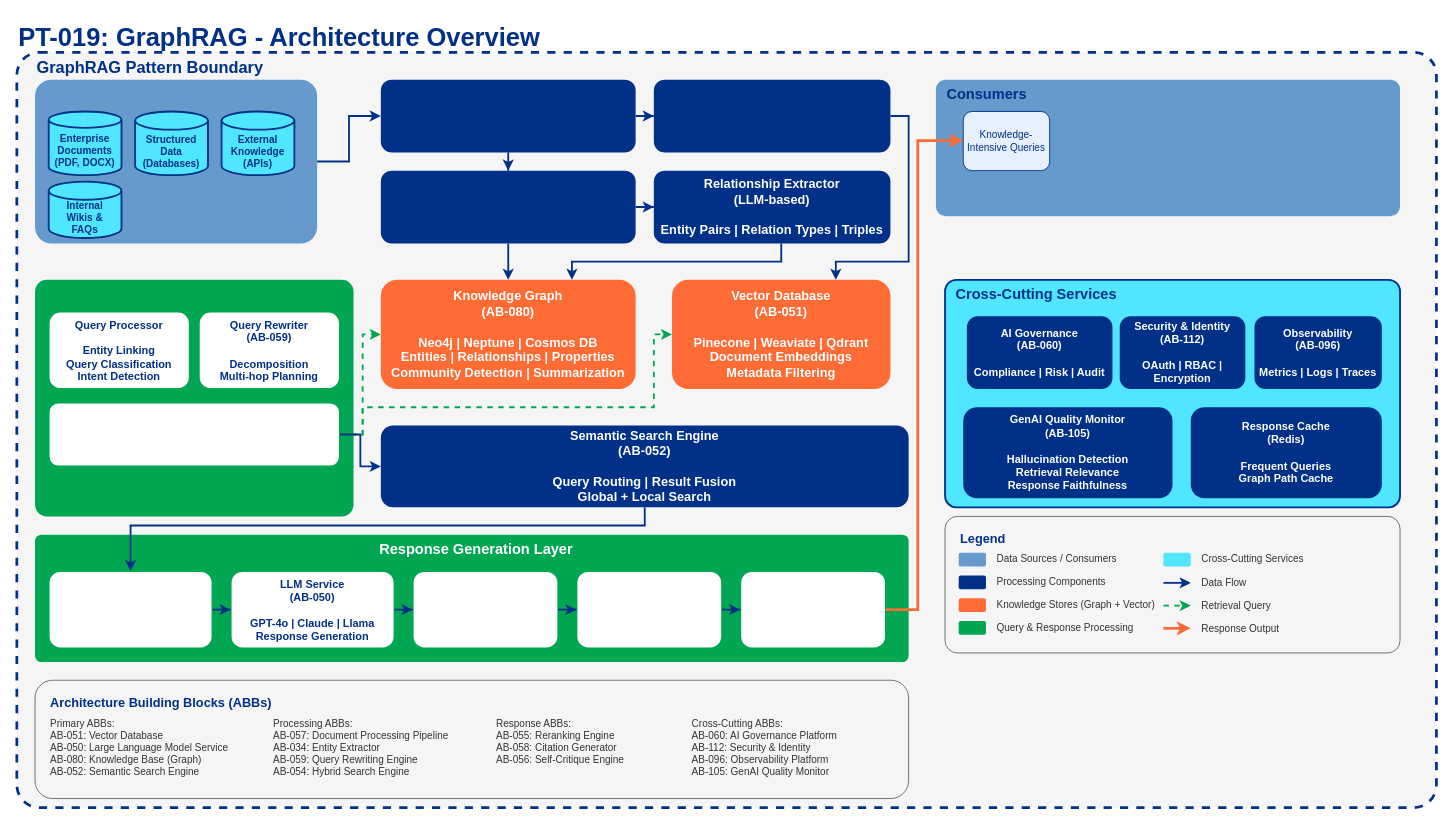
This 1453x824 diagram has some shape labels left out. The shapes that lost their labels are listed below. From the top down, each one's box as (x1, y1, x2, y2) in pixels, then its label:
(380, 79, 635, 152): Document Processing Pipeline (AB-057) Parsing | Cleaning | Chunking | Metadata
(653, 79, 890, 152): Embedding Generator text-embedding-3-large bge-large-en
(35, 79, 317, 243): Data Sources
(380, 170, 635, 243): Entity Extractor (AB-034) NER | Entity Types | Confidence
(35, 279, 353, 516): Query Processing Layer
(47, 401, 340, 467): Hybrid Retriever (AB-054) Vector Search + Graph Traversal Reciprocal Rank Fusion
(47, 570, 213, 649): Context Assembler Graph Paths + Doc Chunks Structured Prompt
(411, 570, 559, 649): Reranking Engine (AB-055) Cross-Encoder Relevance Scoring
(575, 570, 723, 649): Citation Generator (AB-058) Source Attribution Graph Paths
(739, 570, 886, 649): Self-Critique (AB-056) Hallucination Check Faithfulness
